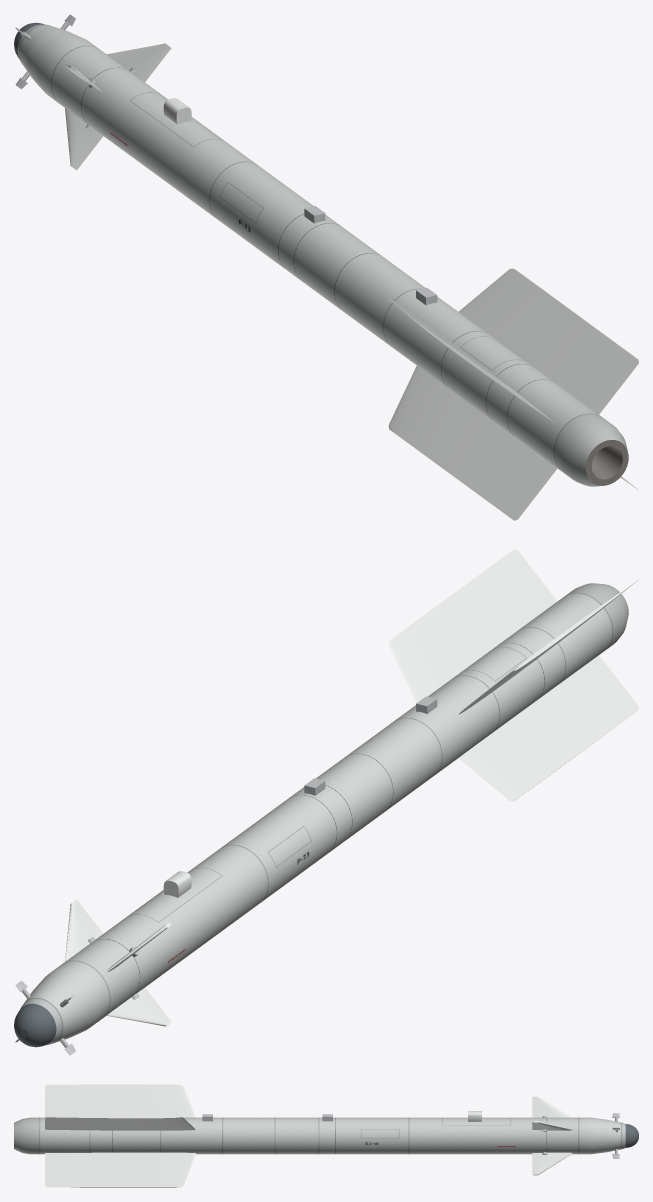
The picture shows the model from 3 angles, top to bottom: view 1: azimuth 30°, elevation 25°; view 2: azimuth 150°, elevation 25°; view 3: azimuth 270°, elevation 25°; orthographic projection. The views are drawn at different scales.
Visible parts, largest first — view 1: body, wing_2, wing_0, nozzle, canard_2, canard_0, wing_1; view 2: body, wing_2, wing_0, seeker_dome, canard_0, canard_2, wing_1; view 3: body, wing_3, wing_1, wing_0, canard_3, canard_1, seeker_dome, canard_0.
Part boxes in pixels (left/top/right/bottom): body: left=17, top=24, right=628, bottom=486; wing_2: left=388, top=366, right=557, bottom=520; wing_0: left=458, top=268, right=638, bottom=414; nozzle: left=586, top=440, right=628, bottom=485; canard_2: left=65, top=108, right=103, bottom=170; canard_0: left=107, top=43, right=171, bottom=81; wing_1: left=389, top=298, right=556, bottom=424; body: left=20, top=583, right=628, bottom=1045; wing_2: left=458, top=655, right=638, bottom=801; wing_0: left=388, top=549, right=557, bottom=702; seeker_dome: left=14, top=1003, right=56, bottom=1047; canard_0: left=65, top=899, right=103, bottom=961; canard_2: left=107, top=988, right=171, bottom=1026; wing_1: left=458, top=580, right=637, bottom=714; body: left=14, top=1117, right=625, bottom=1154; wing_3: left=45, top=1152, right=195, bottom=1187; wing_1: left=45, top=1084, right=195, bottom=1117; wing_0: left=45, top=1116, right=195, bottom=1130; canard_3: left=532, top=1152, right=572, bottom=1175; canard_1: left=532, top=1096, right=570, bottom=1117; seeker_dome: left=625, top=1124, right=638, bottom=1147; canard_0: left=532, top=1120, right=572, bottom=1130.
Bounding box in the file's own units: 0.3677 × 0.3677 × 2.92.
5 materials, 1 textured.
